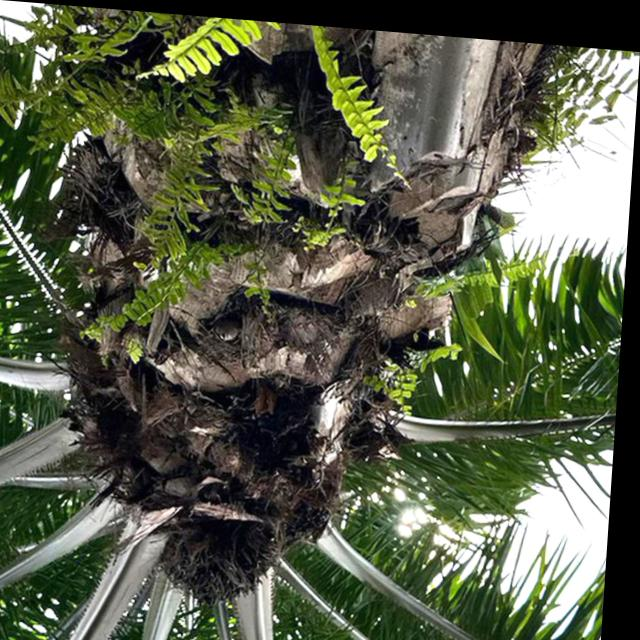almost: (160, 499, 292, 613)
